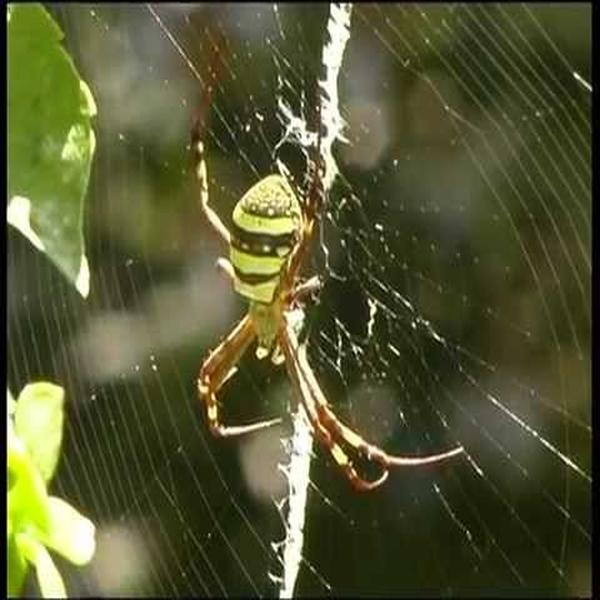St Andrew's Cross Spider: (186, 44, 460, 489)
